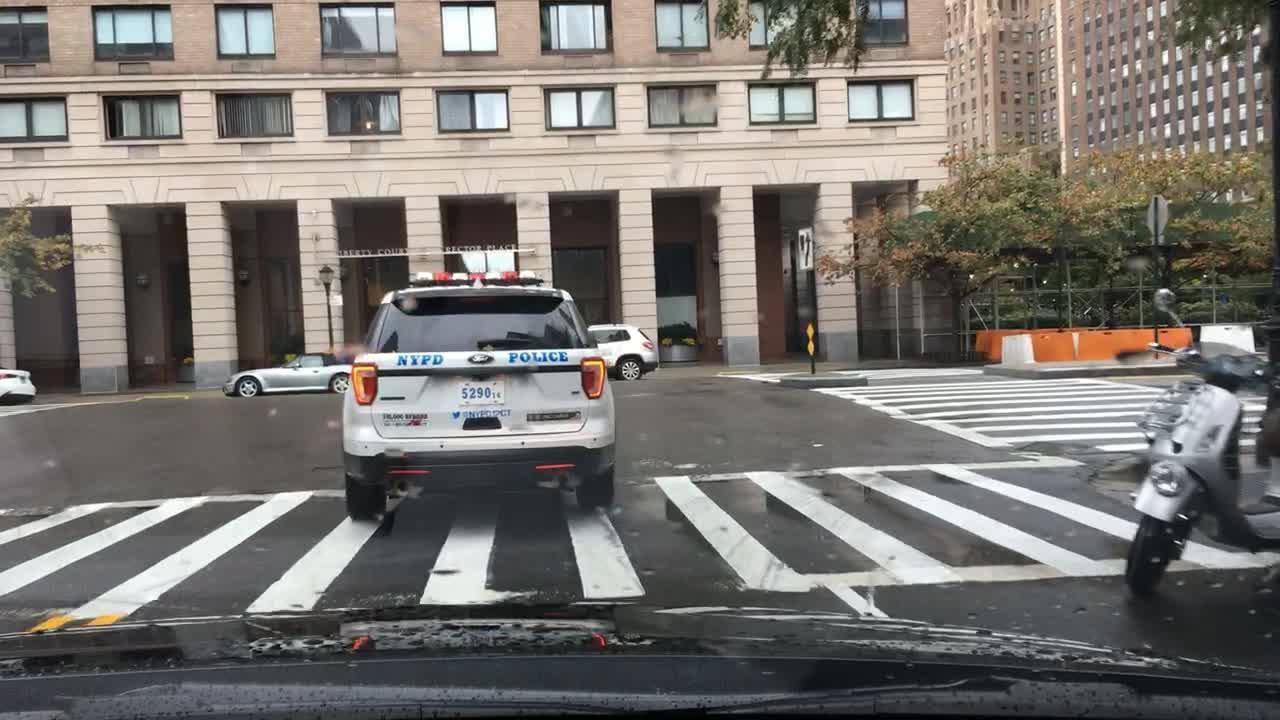ford: (465, 351, 497, 368)
